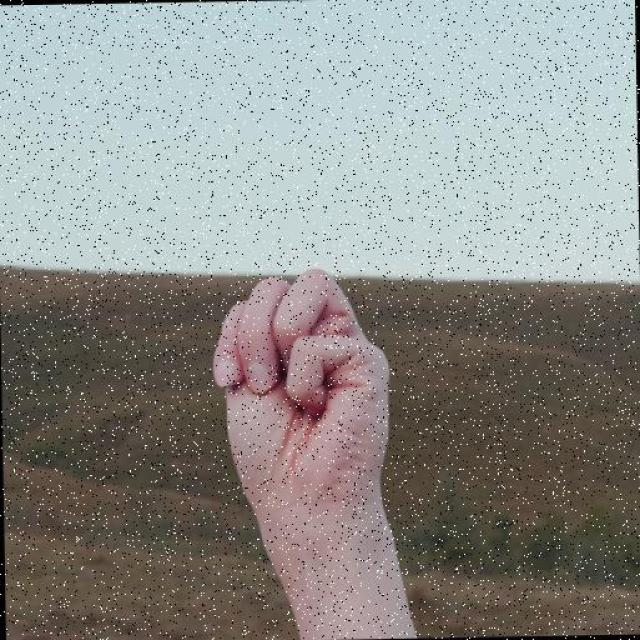M: (204, 264, 396, 528)
